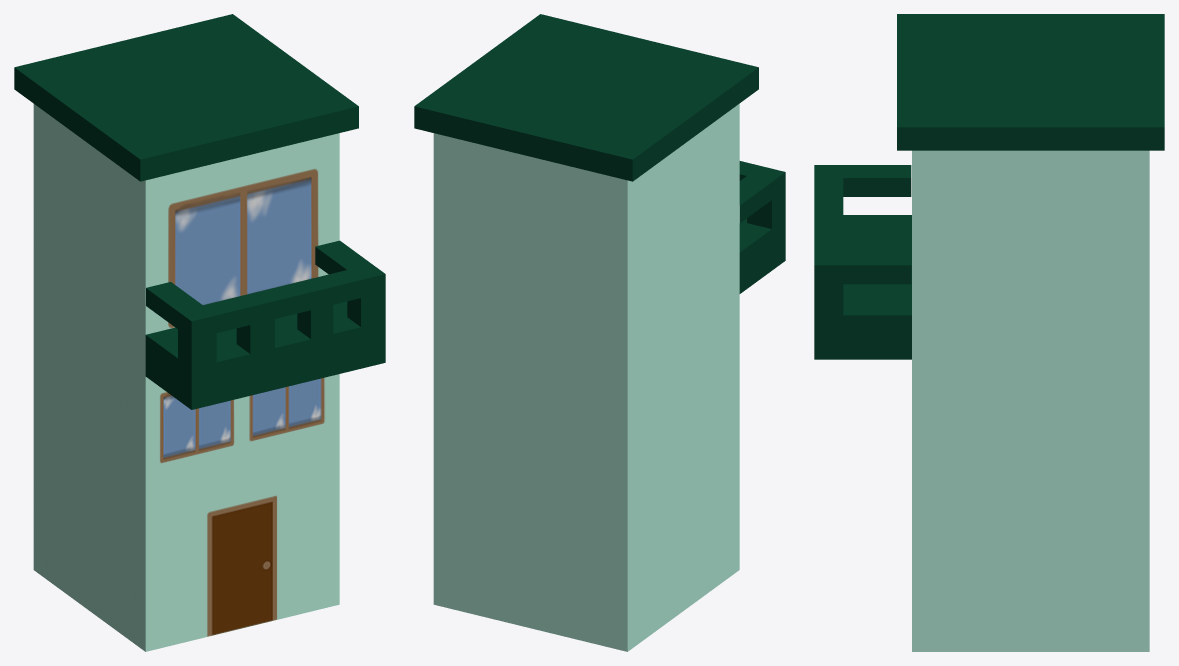
The model's file is Building3.fbx.
3 views of the same model, side by side, from view 1: azimuth 30°, elevation 25°; view 2: azimuth 150°, elevation 25°; view 3: azimuth 270°, elevation 25° (orthographic). The views are drawn at different scales.
Visible parts, largest first — view 1: pCube13; view 2: pCube13; view 3: pCube13.
Boxes of the visible parts, x1,y1,x2,y2 form: pCube13: (14, 14, 385, 651); pCube13: (414, 14, 785, 651); pCube13: (814, 14, 1164, 651).
Bounding box in the file's own units: 3.03 × 6.64 × 3.97.
